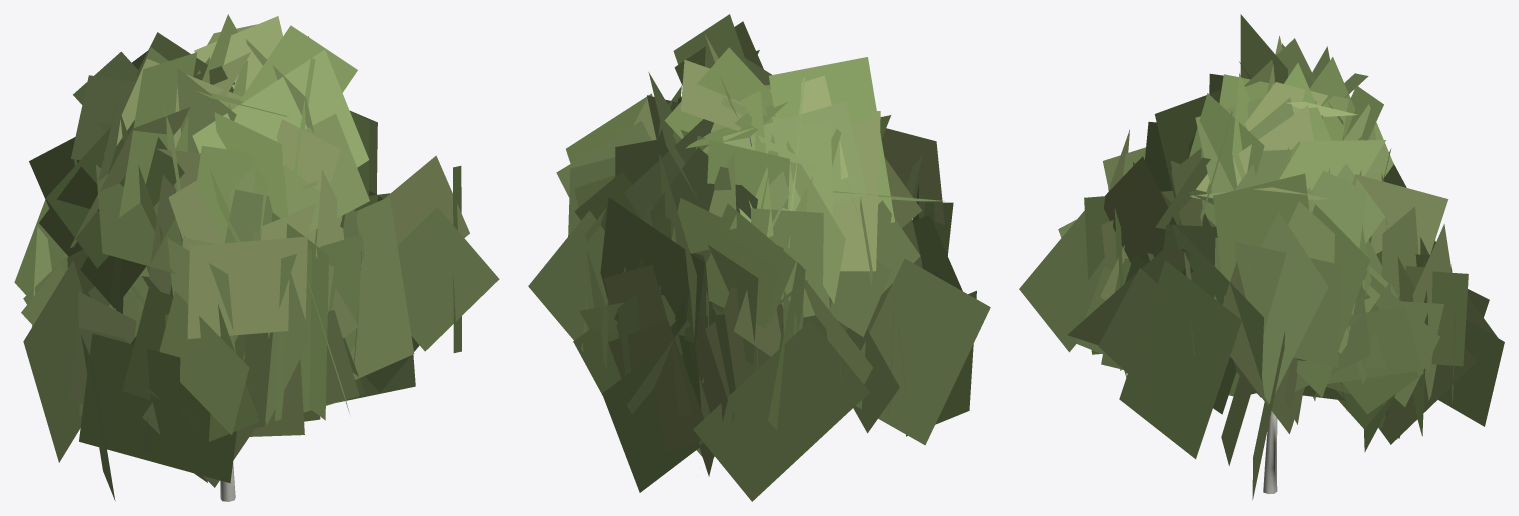
The model's file is birch_lod1.glb.
The picture shows the model from 3 angles, left to right: view 1: azimuth 30°, elevation 25°; view 2: azimuth 150°, elevation 25°; view 3: azimuth 270°, elevation 25°; orthographic projection. The views are drawn at different scales.
Parts seen in each view (by area): view 1: birch_lod1; view 2: birch_lod1; view 3: birch_lod1.
Boxes of the visible parts, box(x1,y1,x2,y2) form: birch_lod1: box(14, 14, 499, 501); birch_lod1: box(528, 14, 990, 501); birch_lod1: box(1019, 14, 1504, 500).
Size of the model in its own units: 0.9784 by 1 by 1.
